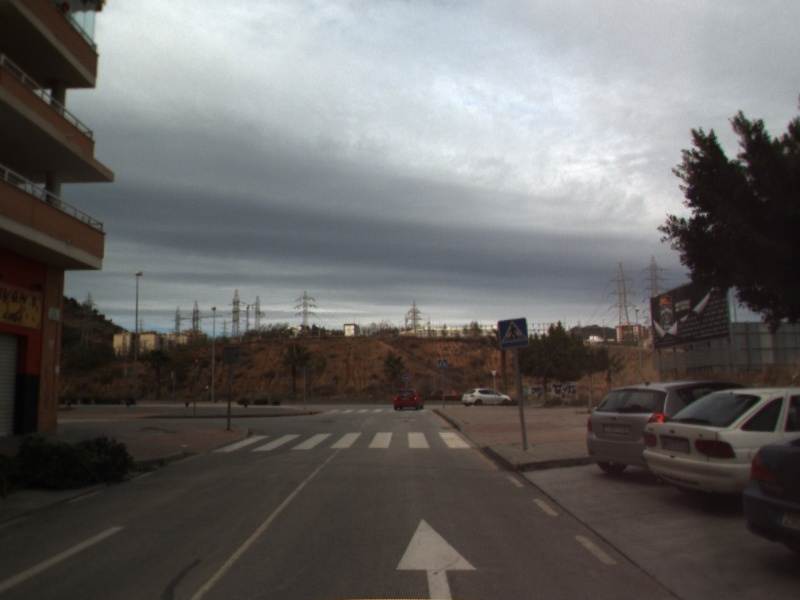STRAIGHT: (393, 516, 480, 600)
